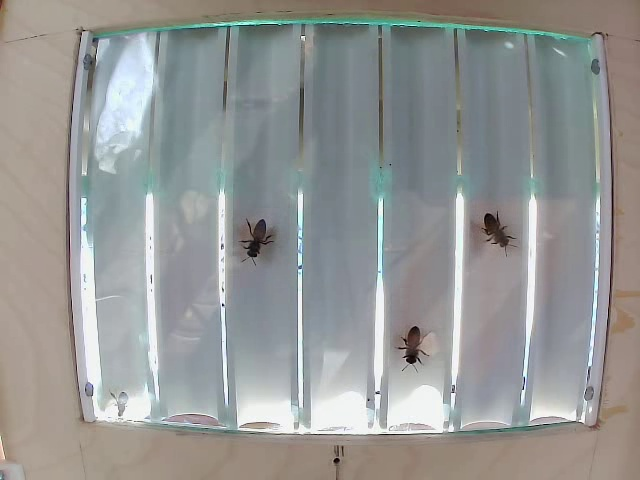bee: (231, 217, 277, 265), (480, 223, 509, 272), (408, 325, 431, 374)
